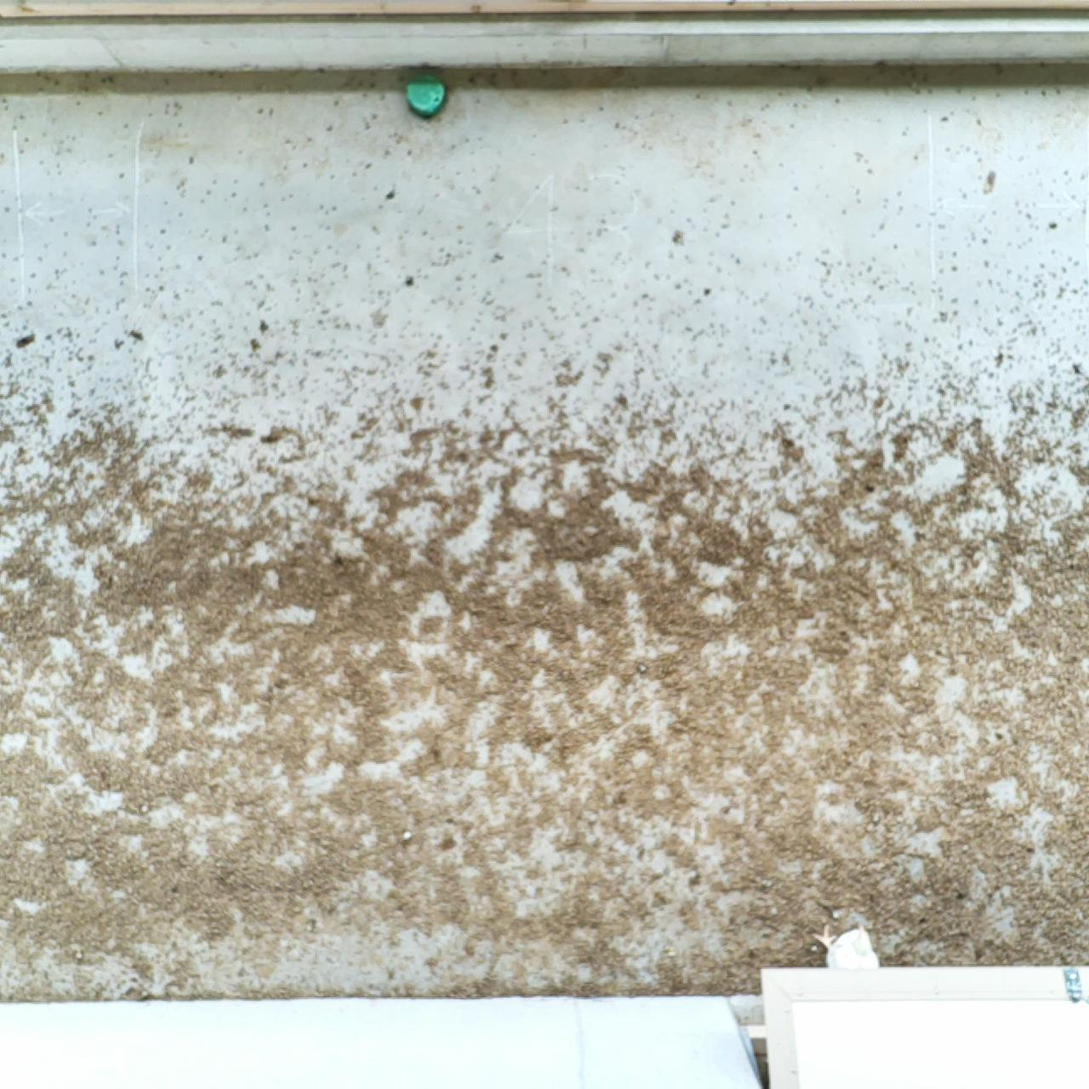chicken: (808, 916, 884, 972)
